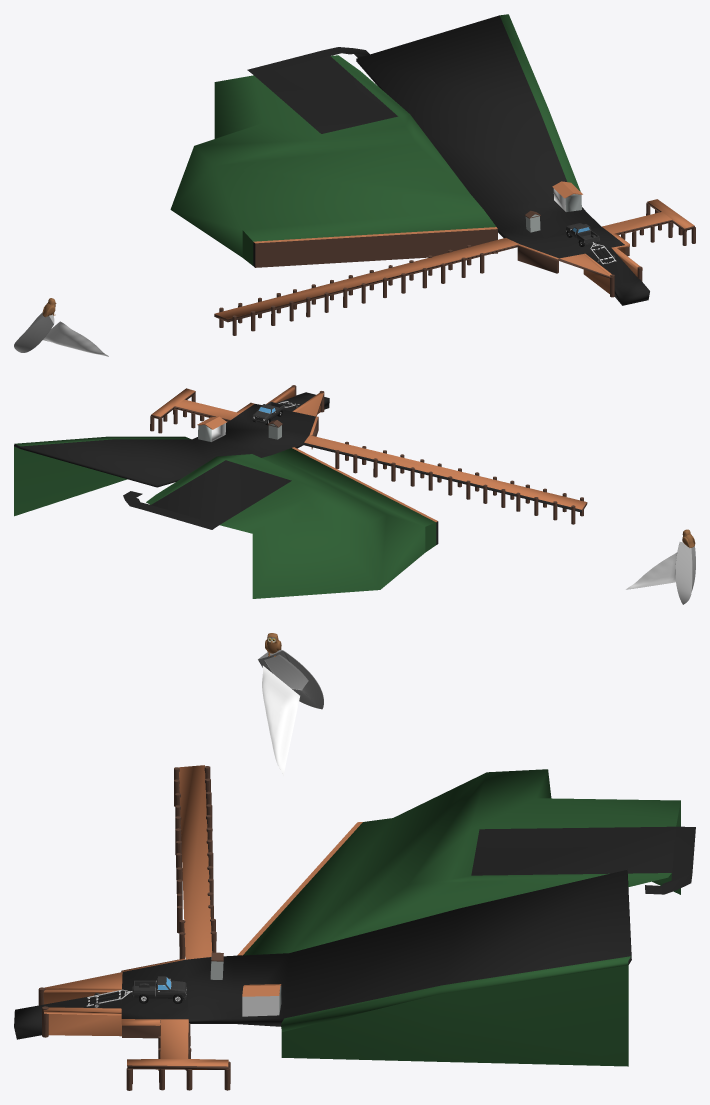
The model's file is isoboatramp.glb.
3 renders of one model, top to bottom at view 1: azimuth 30°, elevation 25°; view 2: azimuth 150°, elevation 25°; view 3: azimuth 270°, elevation 25°, orthographic. The views are drawn at different scales.
Parts seen in each view (by area): view 1: Wheel_Front_Left.004; view 2: Wheel_Front_Left.004; view 3: Wheel_Front_Left.004.
Part boxes in pixels (bbox=[...]): Wheel_Front_Left.004: bbox=[14, 14, 695, 356]; Wheel_Front_Left.004: bbox=[14, 385, 695, 604]; Wheel_Front_Left.004: bbox=[14, 633, 695, 1090].
Bounding box in the file's own units: 0.8139 × 0.1536 × 0.5801.
